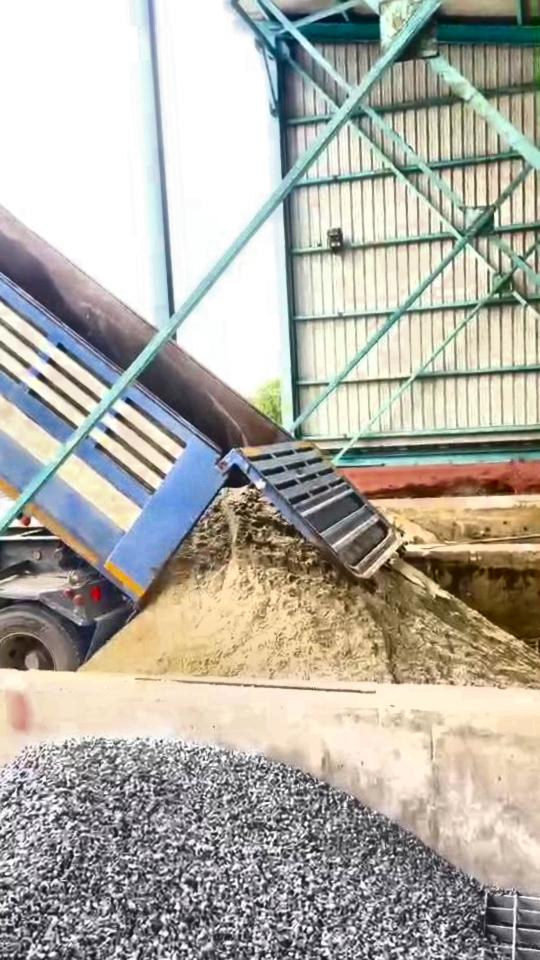gravel: (0, 738, 519, 960)
sand: (83, 488, 540, 688), (384, 508, 441, 544)
